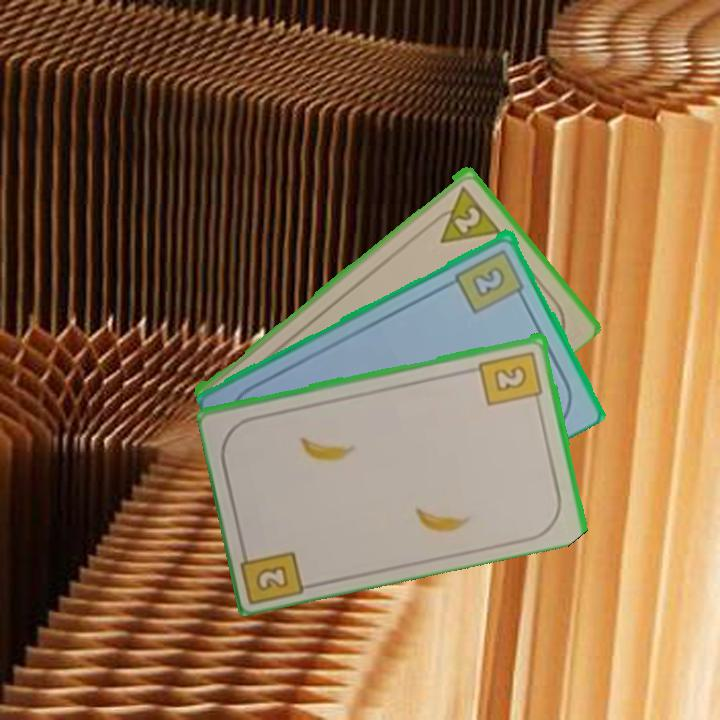2b: (452, 244, 529, 316), (237, 539, 309, 604), (476, 347, 545, 409)
2p: (450, 202, 484, 236)
